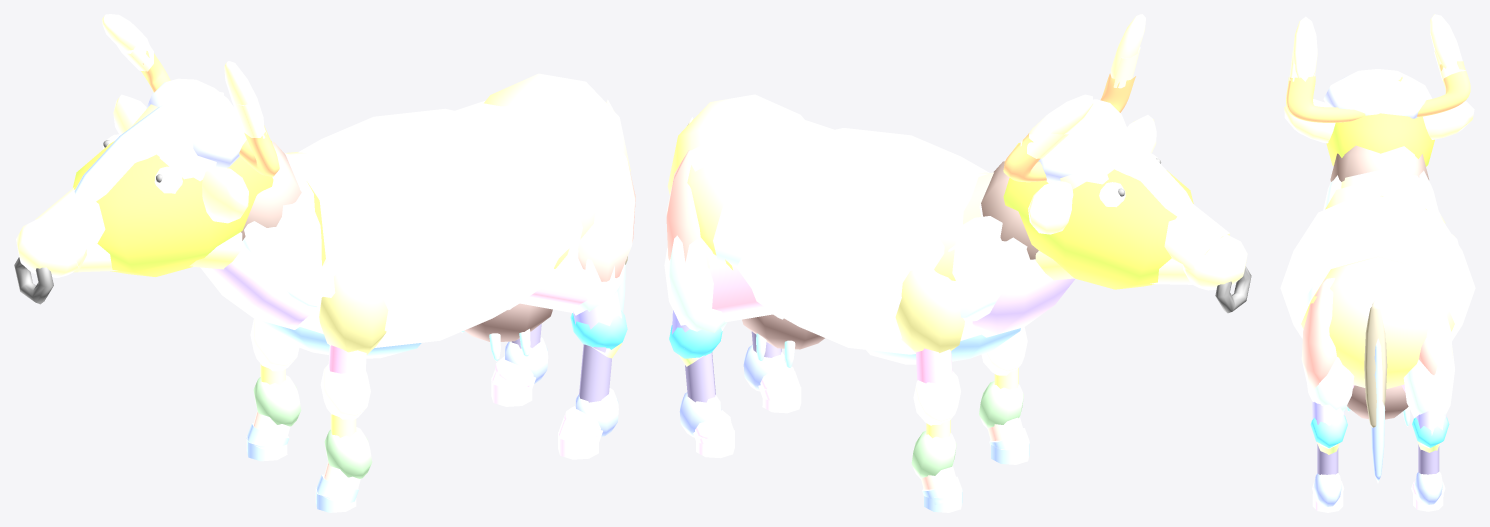
File: cow.gltf
3 renders of one model, left to right at view 1: azimuth 30°, elevation 25°; view 2: azimuth 150°, elevation 25°; view 3: azimuth 270°, elevation 25°, orthographic. The views are drawn at different scales.
Parts seen in each view (by area): view 1: Sphere (×26), Cylinder (×14), Tube, Torus; view 2: Sphere (×25), Cylinder (×10), Tube (×2), Torus; view 3: Sphere (×22), Cylinder (×10), Tube (×2).
Boxes of the visible parts, left/top/right/bottom form: Sphere (×26): left=16, top=14, right=635, bottom=478; Cylinder (×14): left=35, top=100, right=621, bottom=504; Tube: left=239, top=125, right=279, bottom=176; Torus: left=14, top=257, right=53, bottom=304; Sphere (×25): left=664, top=14, right=1247, bottom=478; Cylinder (×10): left=685, top=120, right=1229, bottom=402; Tube (×2): left=1003, top=73, right=1135, bottom=182; Torus: left=1215, top=266, right=1251, bottom=313; Sphere (×22): left=1280, top=14, right=1475, bottom=506; Cylinder (×10): left=1298, top=43, right=1465, bottom=512; Tube (×2): left=1286, top=61, right=1470, bottom=122.
Size of the model in its own units: 16.85 by 13.04 by 6.42.
